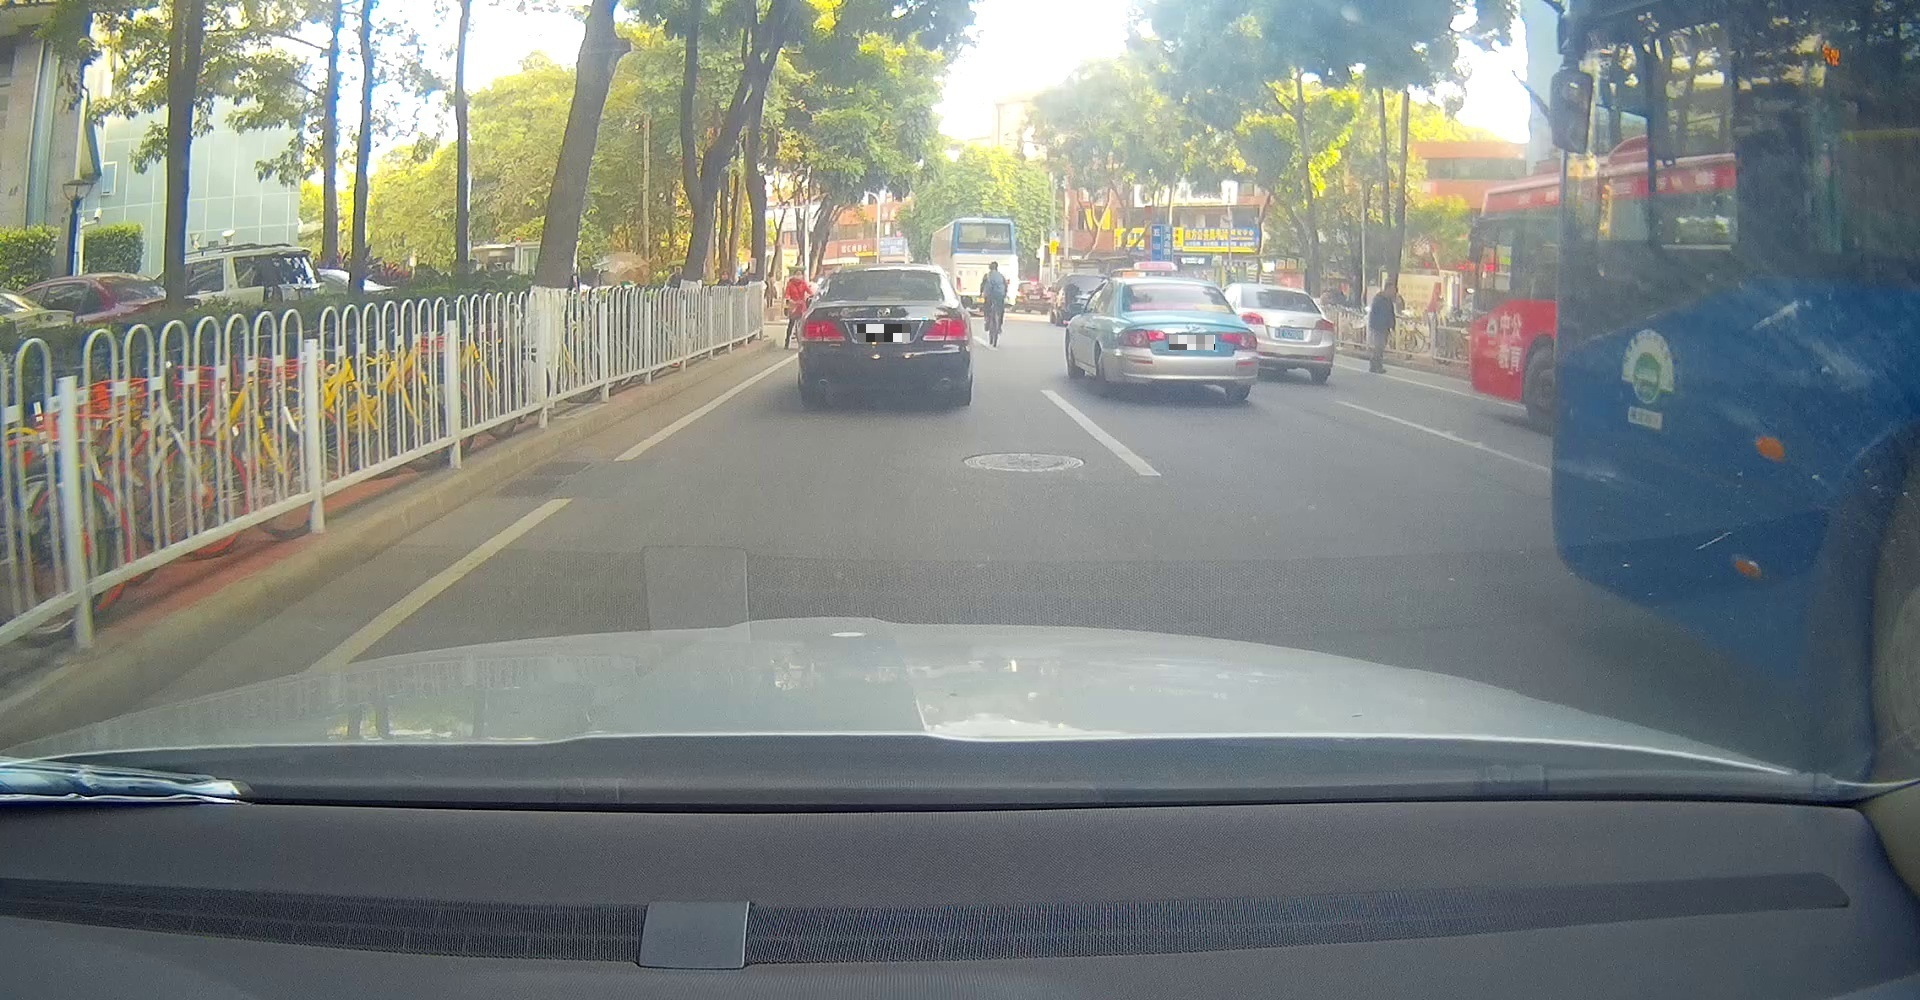L_light: (797, 319, 846, 343), (1117, 327, 1166, 349)
R_light: (921, 317, 969, 341), (1218, 331, 1258, 352)
T_light: (867, 297, 902, 302), (1170, 284, 1190, 289)
day-no: (796, 263, 973, 407), (1115, 277, 1258, 402)
plate_1: (857, 324, 910, 341)
plate_2: (1170, 335, 1215, 350)
